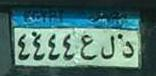4: (15, 34, 30, 61), (62, 34, 74, 61), (32, 34, 44, 60), (47, 34, 57, 59)
ain: (81, 34, 95, 61)
daal: (121, 37, 134, 59)
laam: (99, 34, 116, 61)
